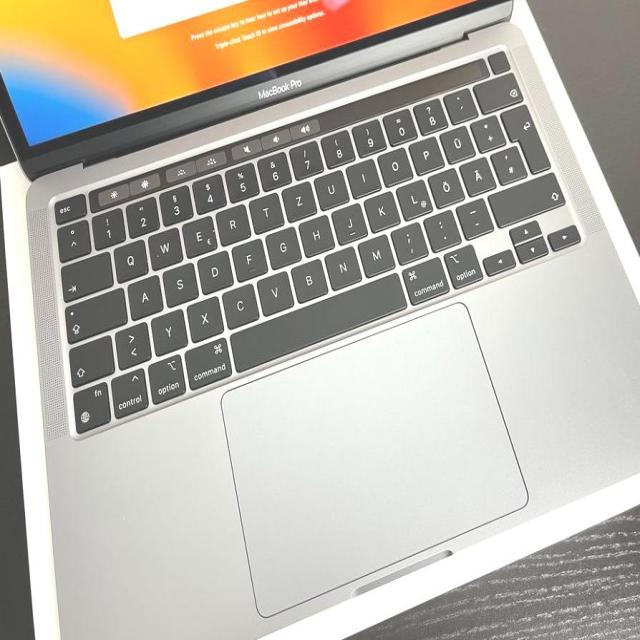0: (380, 104, 417, 141)
1: (89, 206, 124, 246)
2: (123, 194, 158, 233)
3: (156, 182, 192, 222)
4: (190, 170, 225, 209)
5: (222, 159, 258, 198)
6: (254, 147, 291, 185)
7: (287, 137, 323, 175)
8: (318, 126, 355, 164)
9: (349, 116, 386, 154)
a: (125, 271, 161, 316)
accent: (441, 84, 477, 119)
ae: (457, 153, 495, 191)
alt-left: (146, 352, 185, 402)
altgr-right: (440, 241, 481, 286)
b: (288, 255, 327, 299)
c: (220, 280, 258, 326)
caret: (55, 217, 89, 258)
comma: (388, 218, 428, 260)
d: (195, 248, 231, 291)
del: (470, 70, 522, 110)
e: (179, 212, 215, 253)
enter: (499, 100, 549, 168)
f: (229, 235, 266, 278)
g: (263, 224, 300, 266)
h: (296, 211, 334, 252)
hash: (488, 141, 526, 181)
i: (344, 155, 380, 193)
j: (330, 199, 367, 240)
k: (362, 188, 399, 229)
keyboard: (43, 39, 594, 441)
l: (394, 175, 432, 215)
less: (113, 319, 150, 365)
m: (355, 230, 394, 273)
minus: (453, 195, 493, 235)
n: (322, 243, 362, 286)
o: (375, 145, 412, 183)
oe: (426, 165, 464, 204)
p: (407, 133, 444, 170)
plus: (468, 111, 505, 148)
point: (421, 207, 460, 247)
q: (111, 236, 147, 280)
r: (213, 201, 250, 242)
s: (160, 260, 197, 304)
shift-left: (67, 331, 113, 385)
shift-lock: (63, 285, 125, 340)
shift-right: (484, 169, 563, 225)
space: (227, 270, 407, 372)
ss: (411, 94, 448, 131)
strg-left: (110, 367, 149, 418)
t: (246, 188, 283, 229)
tab: (59, 248, 112, 298)
u: (312, 167, 349, 206)
ue: (438, 121, 475, 159)
v: (254, 268, 294, 312)
w: (146, 225, 181, 266)
x: (185, 293, 222, 338)
y: (148, 306, 186, 352)
z: (279, 178, 316, 218)
